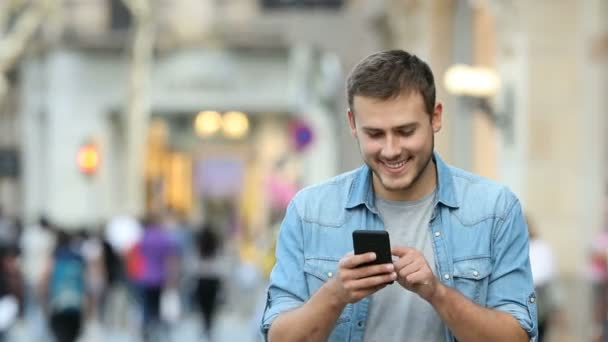face: (346, 48, 438, 191)
